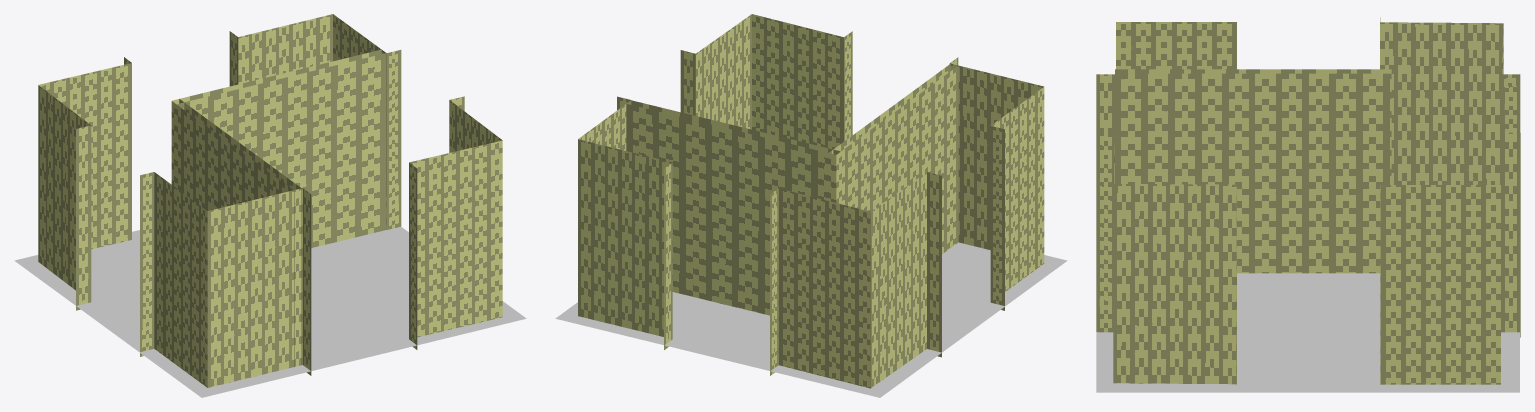
The model's file is room7.obj.
3 renders of one model, left to right at view 1: azimuth 30°, elevation 25°; view 2: azimuth 150°, elevation 25°; view 3: azimuth 270°, elevation 25°, orthographic. The views are drawn at different scales.
Parts seen in each view (by area): view 1: Cube.003_Cube.007, Plane, Cube.002_Cube.005, Cube.001_Cube.006, Cube_Cube.001; view 2: Cube.003_Cube.007, Cube.001_Cube.006, Cube_Cube.001, Cube.002_Cube.005, Plane; view 3: Cube.003_Cube.007, Cube.002_Cube.005, Cube_Cube.001, Plane, Cube.001_Cube.006.
Part boxes in pixels (x1,y1,x2,y2): Cube.003_Cube.007: (140, 49, 386, 387); Plane: (14, 226, 526, 397); Cube.002_Cube.005: (409, 96, 502, 349); Cube.001_Cube.006: (38, 57, 131, 310); Cube_Cube.001: (229, 14, 401, 229); Cube.003_Cube.007: (626, 57, 1044, 315); Cube.001_Cube.006: (770, 172, 941, 388); Cube_Cube.001: (578, 96, 672, 349); Cube.002_Cube.005: (680, 14, 852, 149); Plane: (555, 242, 1067, 397); Cube.003_Cube.007: (1096, 22, 1391, 273); Cube.002_Cube.005: (1096, 132, 1236, 385); Cube_Cube.001: (1380, 132, 1520, 384); Plane: (1096, 273, 1519, 392); Cube.001_Cube.006: (1380, 17, 1520, 184).
Bounding box in the file's own units: 12 × 6.41 × 12.03.
Materials: 5 (4 with a texture image).
